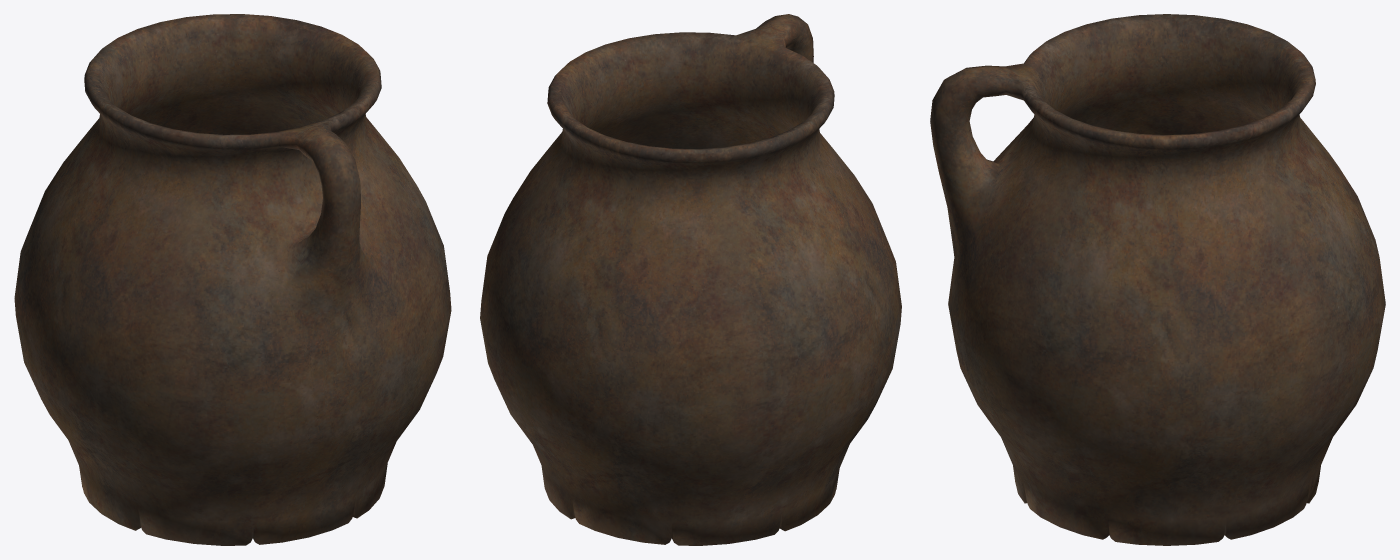
File: medieval_chamber_pot.glb
3 views of the same model, side by side, from view 1: azimuth 30°, elevation 25°; view 2: azimuth 150°, elevation 25°; view 3: azimuth 270°, elevation 25° (orthographic). The views are drawn at different scales.
Parts seen in each view (by area): view 1: Sphere001_lambert1_0; view 2: Sphere001_lambert1_0; view 3: Sphere001_lambert1_0.
Part boxes in pixels (box(x1,y1,x2,y2)): Sphere001_lambert1_0: box(14, 14, 451, 545); Sphere001_lambert1_0: box(480, 14, 901, 545); Sphere001_lambert1_0: box(930, 14, 1385, 545).
Bounding box in the file's own units: 37.17 × 38.81 × 38.69.
1 material, 1 textured.
